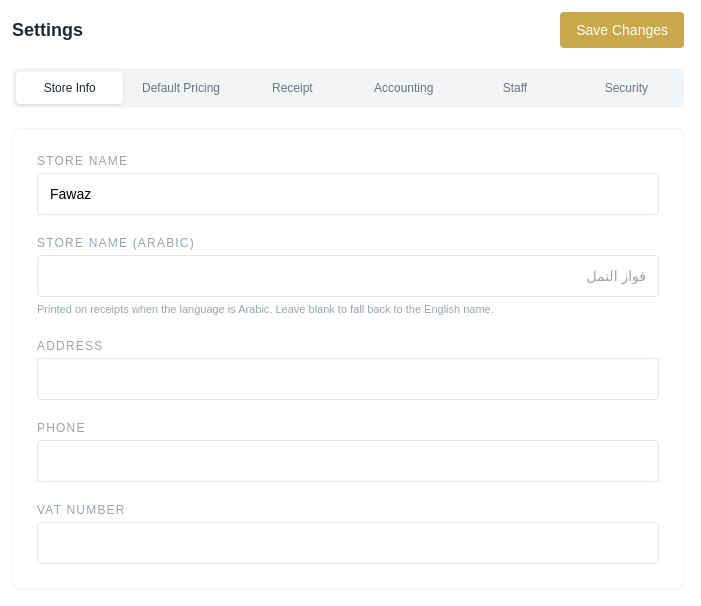
Test case: settings › auto-post toggle › reflects the server state on load: off
Click the button "Accounting".
click(404, 88)  # box [350,72,457,104]
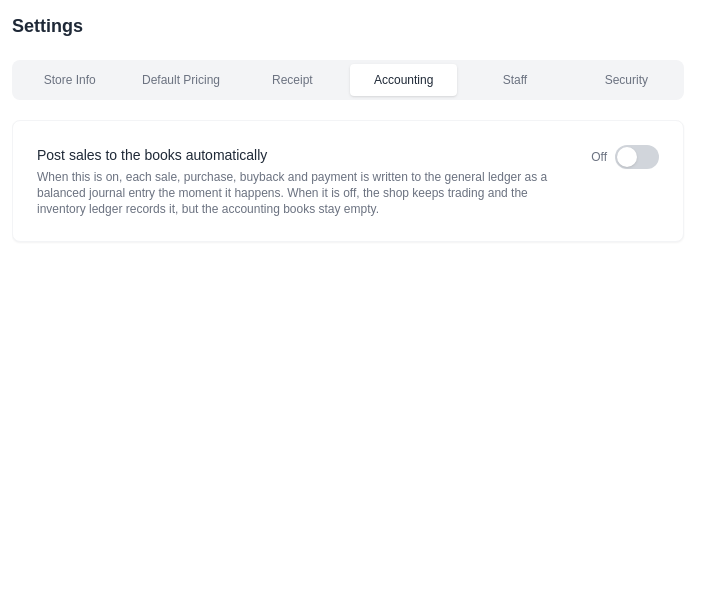
Check: the switch is enabled, box [615,145,659,169]
